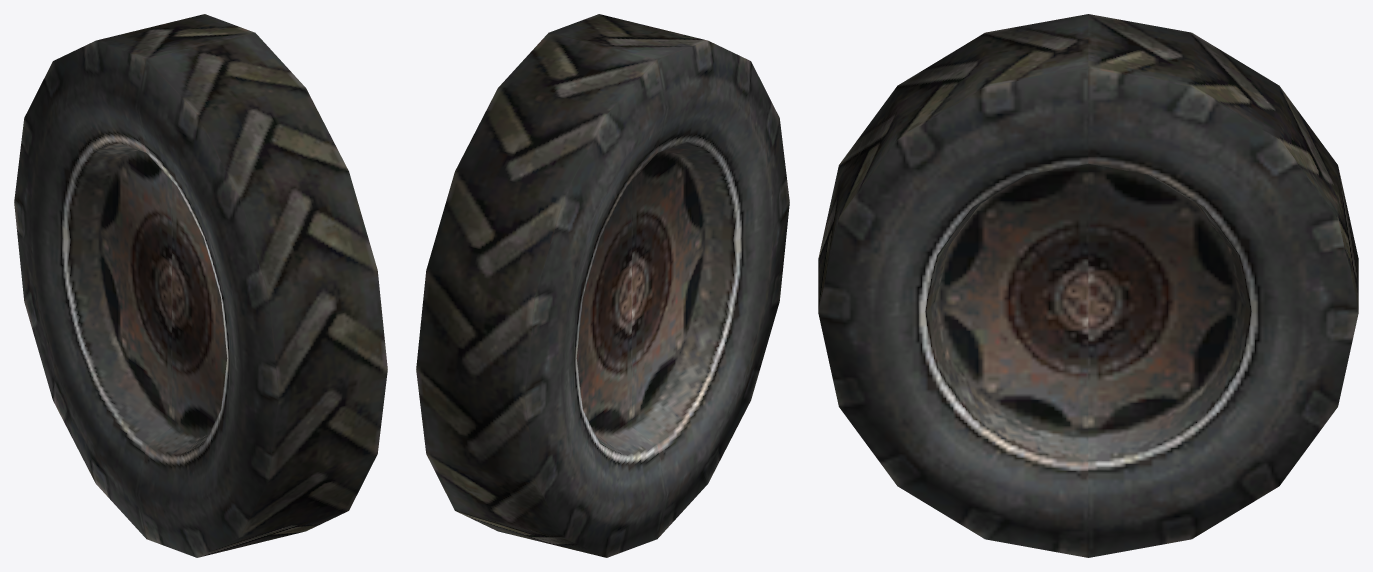
Rendered from farmtractor_wheel.obj.
The picture shows the model from 3 angles, left to right: view 1: azimuth 30°, elevation 25°; view 2: azimuth 150°, elevation 25°; view 3: azimuth 270°, elevation 25°; orthographic projection. The views are drawn at different scales.
Parts seen in each view (by area): view 1: Tractor_(Low_Poly); view 2: Tractor_(Low_Poly); view 3: Tractor_(Low_Poly).
Boxes of the visible parts, left/top/right/bottom form: Tractor_(Low_Poly): left=14, top=14, right=387, bottom=557; Tractor_(Low_Poly): left=416, top=14, right=789, bottom=557; Tractor_(Low_Poly): left=818, top=14, right=1358, bottom=557.
Bounding box in the file's own units: 0.5538 × 2 × 2.
Materials: 1 (1 with a texture image).
